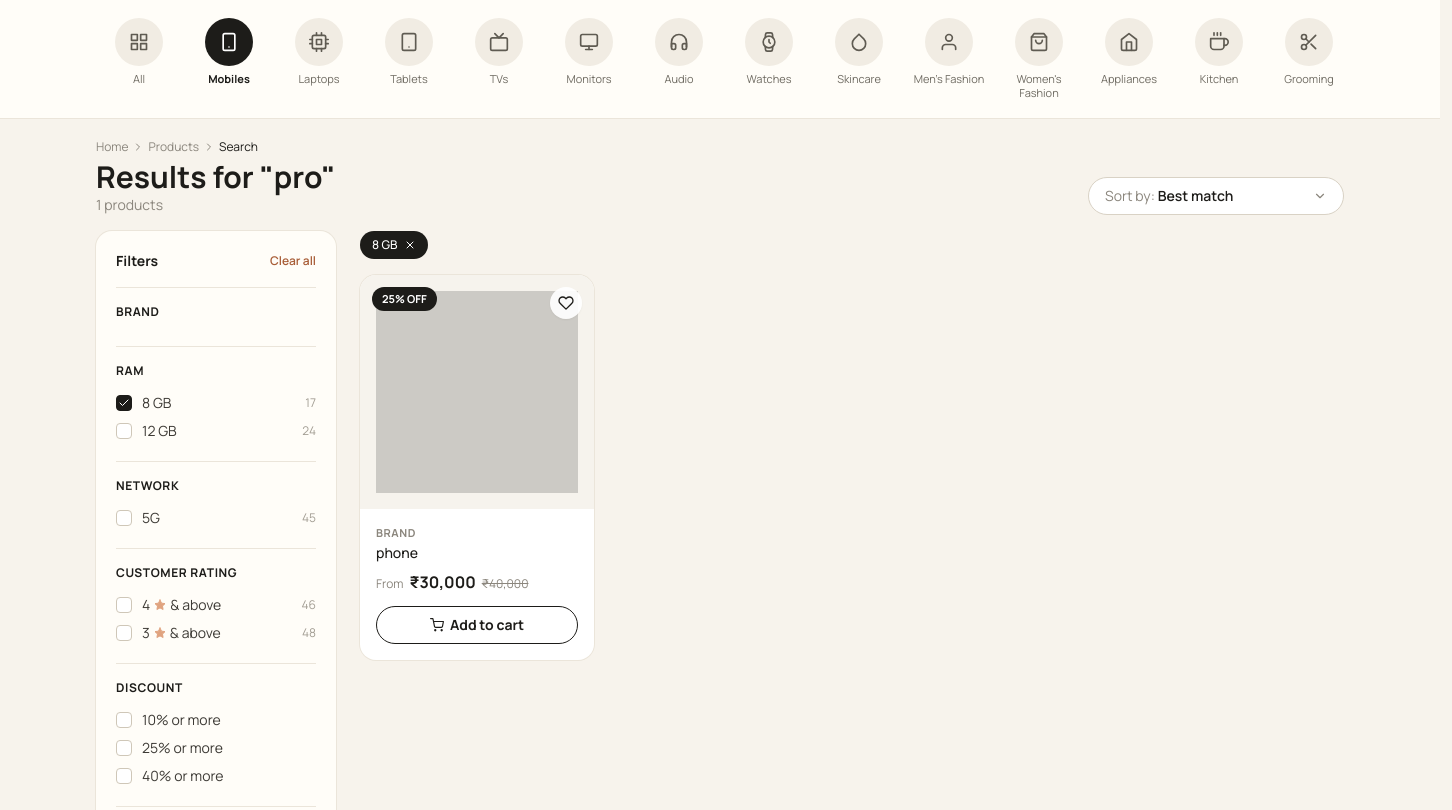
Test: ProductList tiles › drops category filters when switching category
This screenshot has width=1452, height=810.
Click the button "Laptops". click: (319, 59)
box: [276, 12, 362, 106]
(page scrolled)
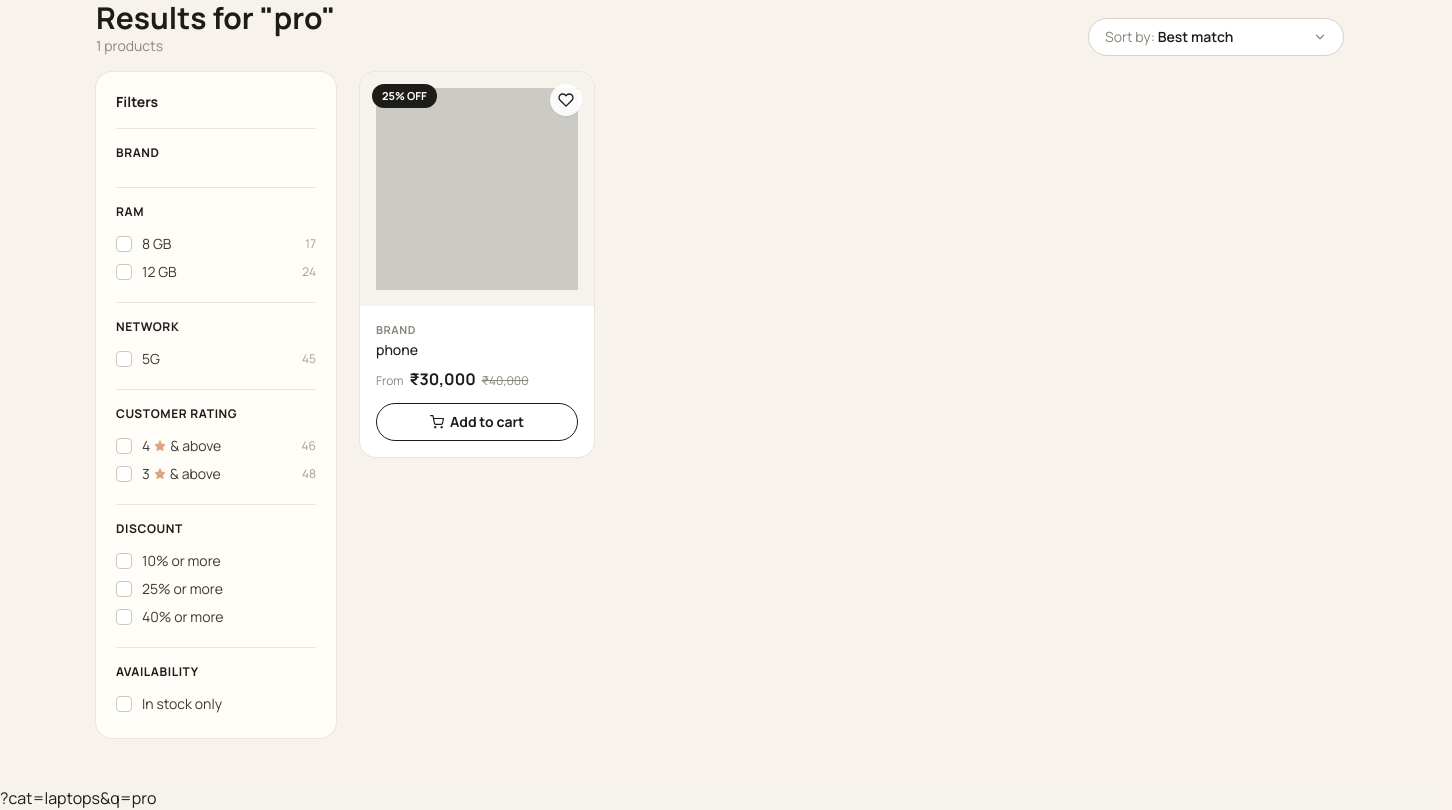
Expected: the text with test id "where" reads "?cat=laptops&q=pro", [0, 786, 156, 808]
